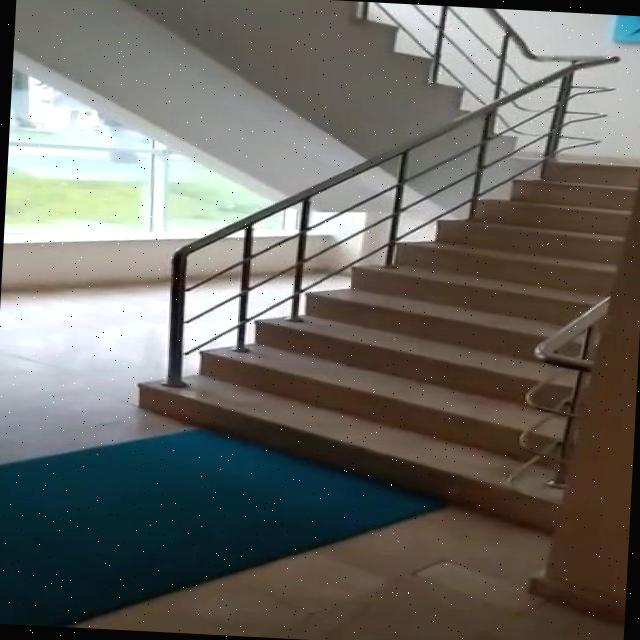stairs: (129, 136, 640, 536)
